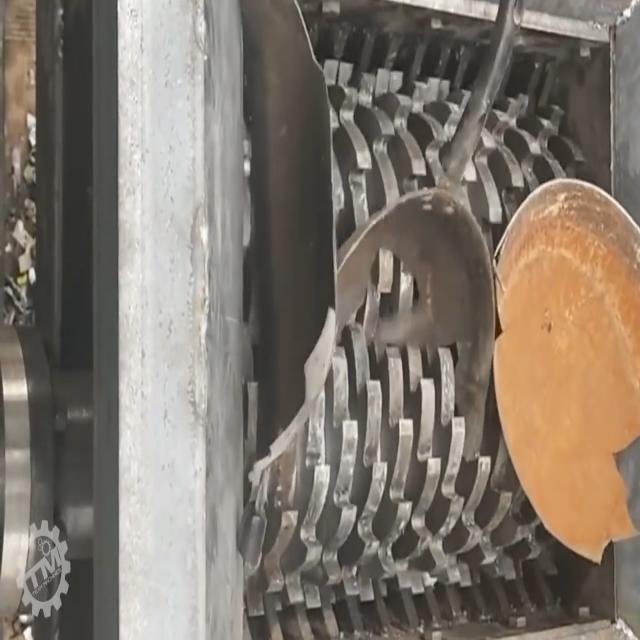Broyeur: (241, 0, 640, 640)
